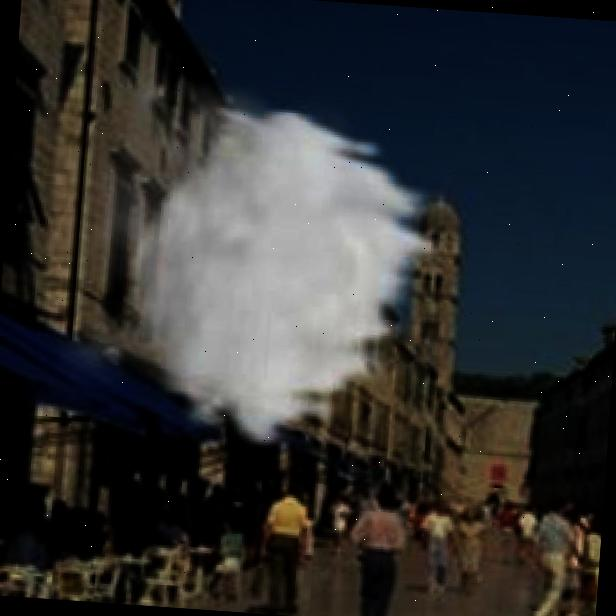smoke: (41, 16, 464, 465)
